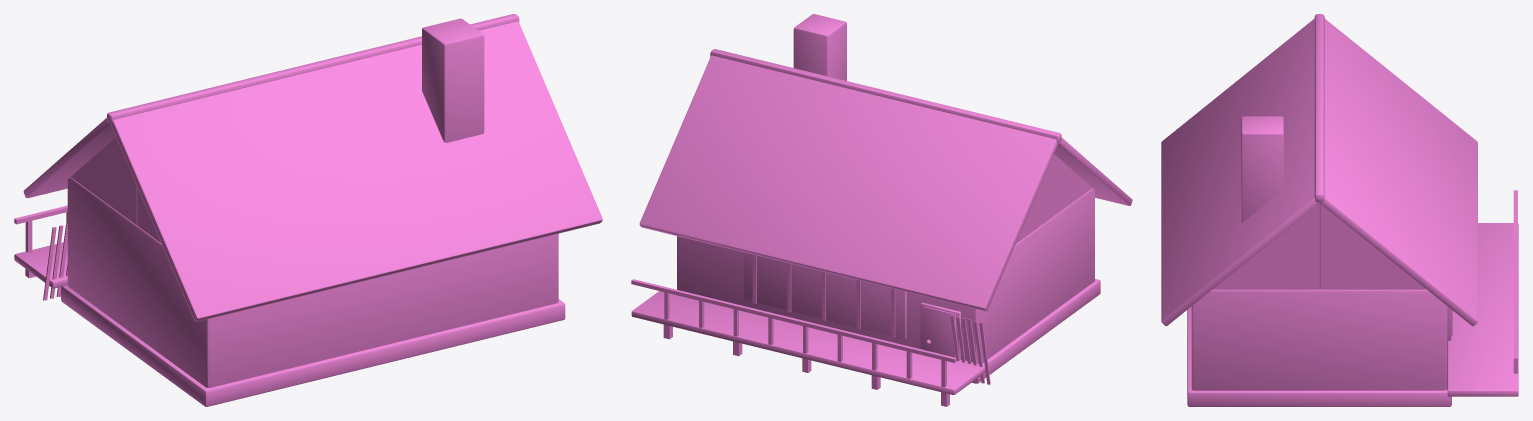
Rendered from Mountain_Lodge.fbx.
The picture shows the model from 3 angles, left to right: view 1: azimuth 30°, elevation 25°; view 2: azimuth 150°, elevation 25°; view 3: azimuth 270°, elevation 25°; orthographic projection. The views are drawn at different scales.
Parts seen in each view (by area): view 1: Body, Paint; view 2: Body, Paint; view 3: Body, Paint.
Part boxes in pixels (x1,y1,x2,y2): Body: [14, 14, 602, 406]; Paint: [67, 177, 558, 387]; Body: [631, 14, 1132, 406]; Paint: [677, 188, 1094, 363]; Body: [1161, 14, 1518, 406]; Paint: [1191, 289, 1447, 390].
Size of the model in its own units: 30.2 by 19.65 by 25.14.
1 material, 1 textured.
